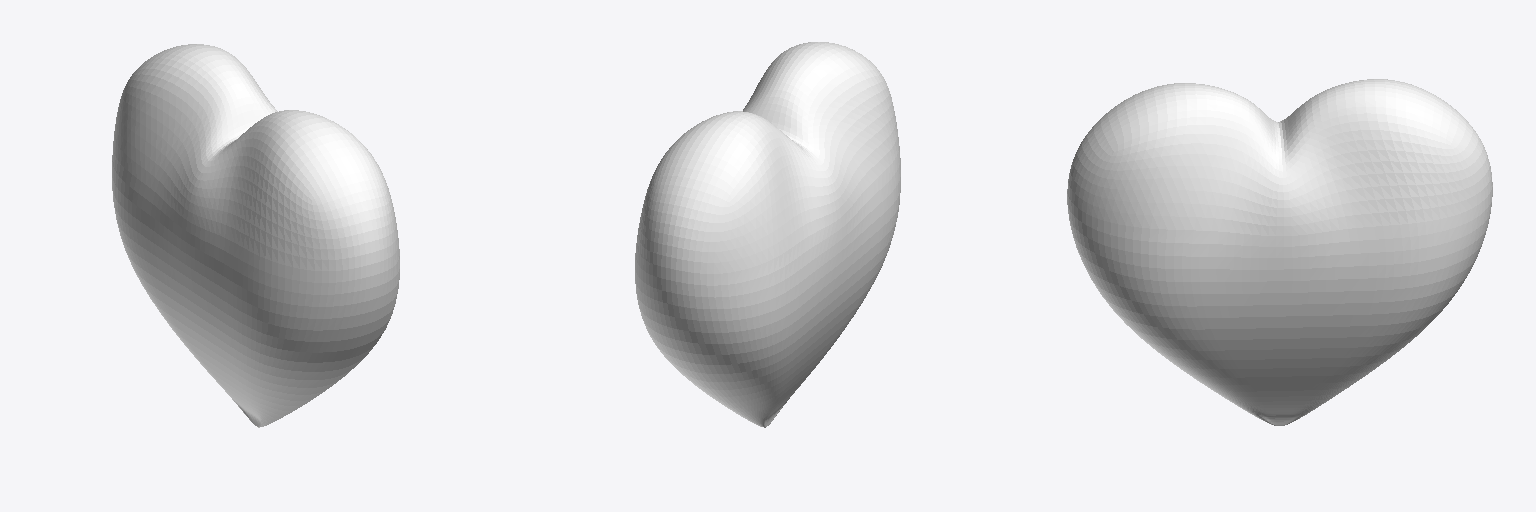
File: exemple.obj
The picture shows the model from 3 angles: view 1: azimuth 30°, elevation 25°; view 2: azimuth 150°, elevation 25°; view 3: azimuth 270°, elevation 25°; orthographic projection.
Visible parts, largest first — view 1: Cube_Material.003_0; view 2: Cube_Material.003_0; view 3: Cube_Material.003_0.
Part boxes in pixels (bbox=[...]): Cube_Material.003_0: bbox=[112, 44, 399, 427]; Cube_Material.003_0: bbox=[635, 42, 900, 427]; Cube_Material.003_0: bbox=[1067, 79, 1492, 425].
Bounding box in the file's own units: 2.11 × 4.55 × 5.16.